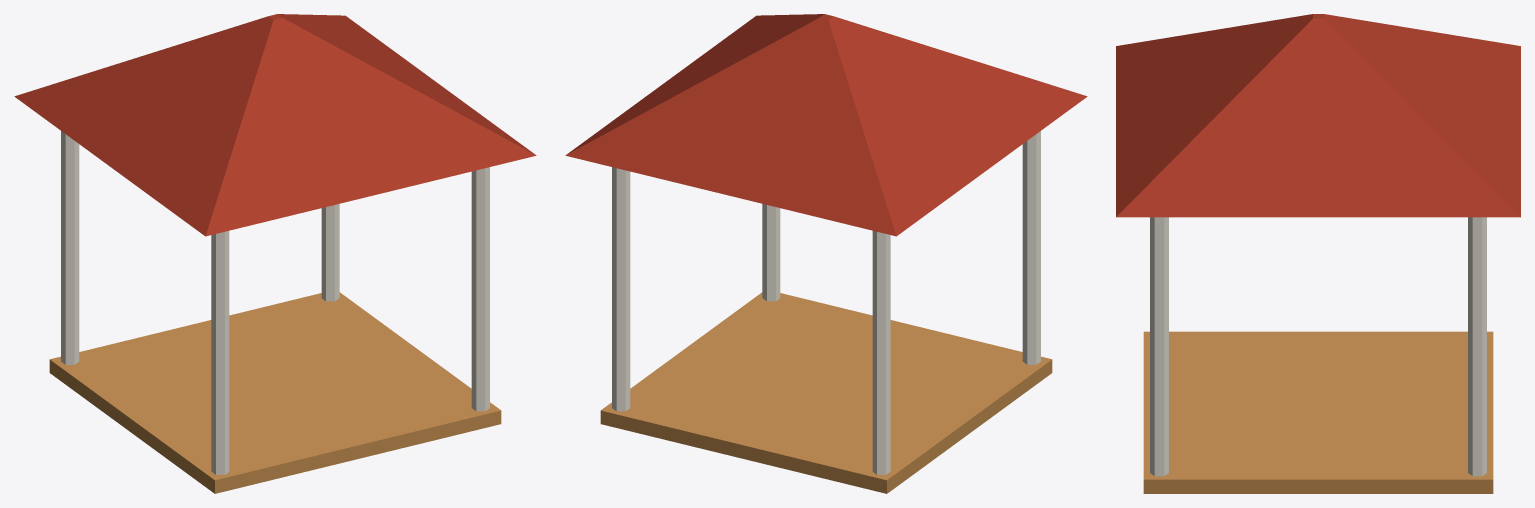
The model's file is patio_gazebo.glb.
3 views of the same model, side by side, from view 1: azimuth 30°, elevation 25°; view 2: azimuth 150°, elevation 25°; view 3: azimuth 270°, elevation 25° (orthographic). The views are drawn at different scales.
Visible parts, largest first — view 1: gazebo; view 2: gazebo; view 3: gazebo.
Boxes of the visible parts, left/top/right/bottom form: gazebo: left=14, top=14, right=536, bottom=493; gazebo: left=565, top=14, right=1087, bottom=493; gazebo: left=1116, top=14, right=1520, bottom=493.
Size of the model in its own units: 2.55 by 2.8 by 2.55.
